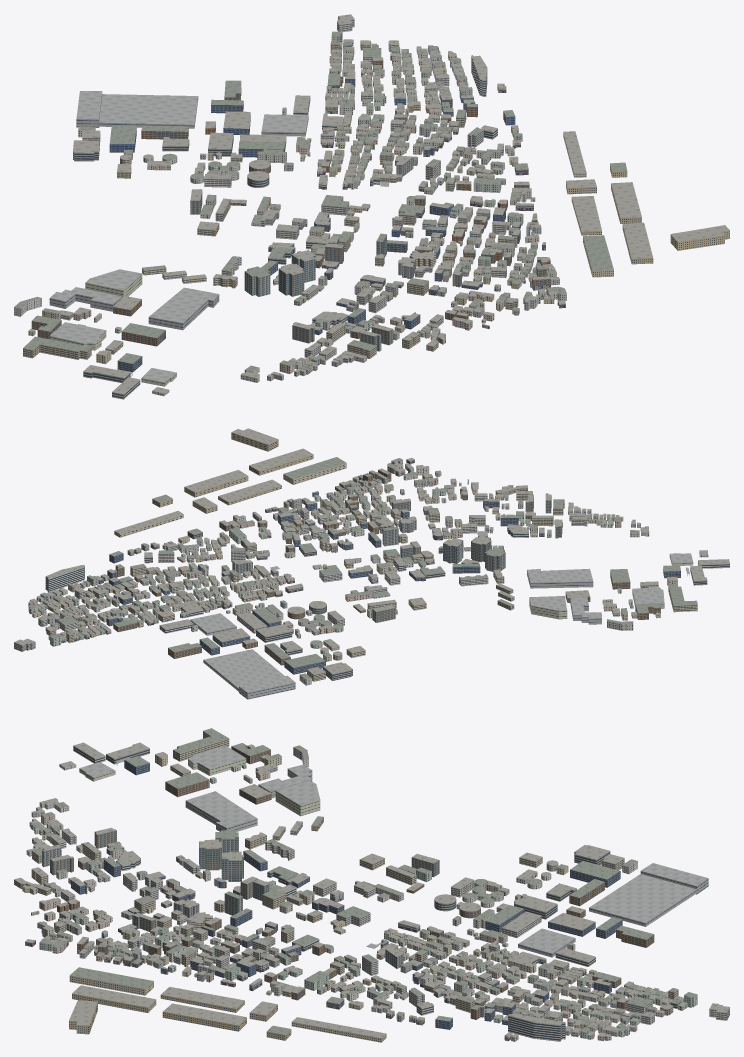
The model's file is ArahaTown_Block_W01024_S02048.gltf.
3 views of the same model, one above another, from view 1: azimuth 30°, elevation 25°; view 2: azimuth 150°, elevation 25°; view 3: azimuth 270°, elevation 25° (orthographic). The views are drawn at different scales.
Visible parts, largest first — view 1: ArahaTown_Block_W01024_S02048; view 2: ArahaTown_Block_W01024_S02048; view 3: ArahaTown_Block_W01024_S02048.
Part boxes in pixels (x1,y1,x2,y2): ArahaTown_Block_W01024_S02048: [14, 14, 729, 399]; ArahaTown_Block_W01024_S02048: [14, 428, 729, 699]; ArahaTown_Block_W01024_S02048: [14, 728, 729, 1042].
Bounding box in the file's own units: 1081 × 38.04 × 1056.
Materials: 25 (24 with a texture image).
